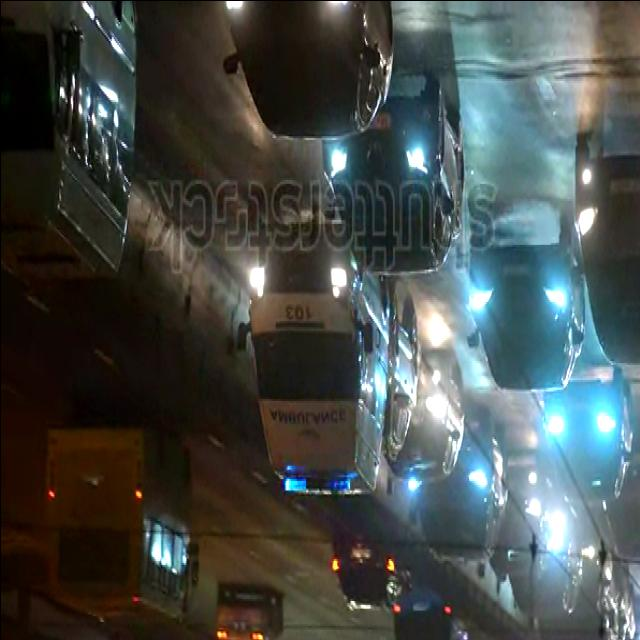ambulance: (236, 208, 390, 498)
